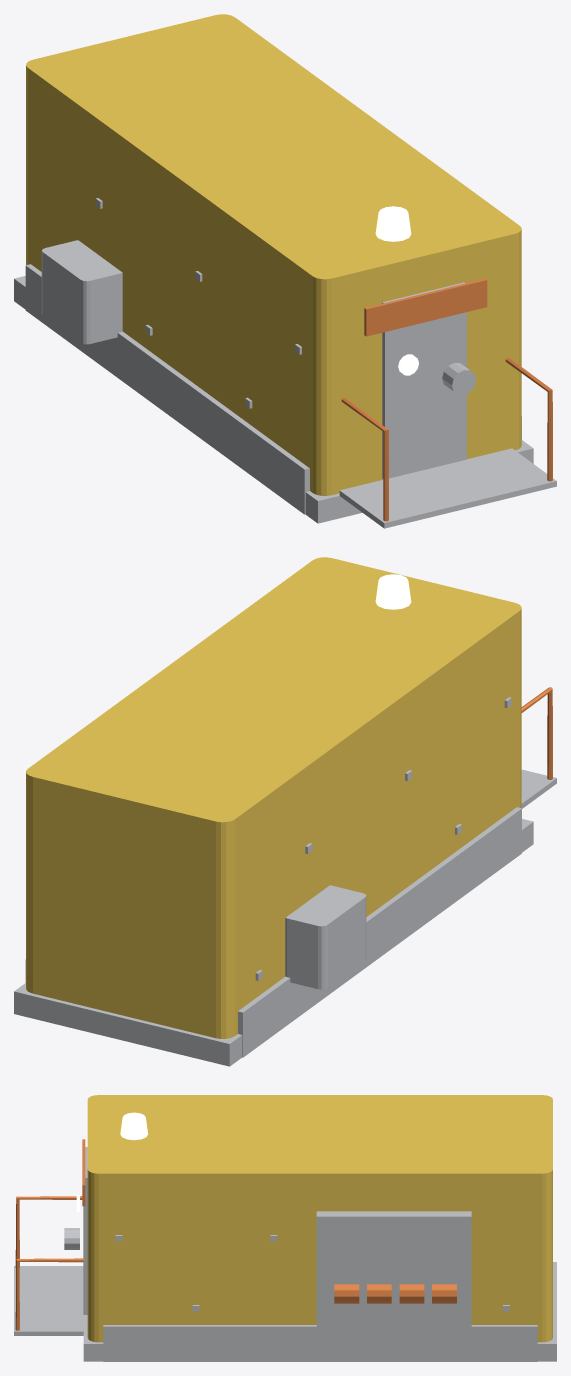
The model's file is underground-mine-and-shaft-works-refuge-chamber-c0699a81.glb.
The picture shows the model from 3 angles, top to bottom: view 1: azimuth 30°, elevation 25°; view 2: azimuth 150°, elevation 25°; view 3: azimuth 270°, elevation 25°; orthographic projection. The views are drawn at different scales.
Visible parts, largest first — view 1: refuge-chamber; view 2: refuge-chamber; view 3: refuge-chamber.
Boxes of the visible parts, x1,y1,x2,y2 form: refuge-chamber: (14,14,556,528); refuge-chamber: (14,557,556,1066); refuge-chamber: (14,1095,556,1361).
Bounding box in the file's own units: 3.17 × 2.89 × 7.
